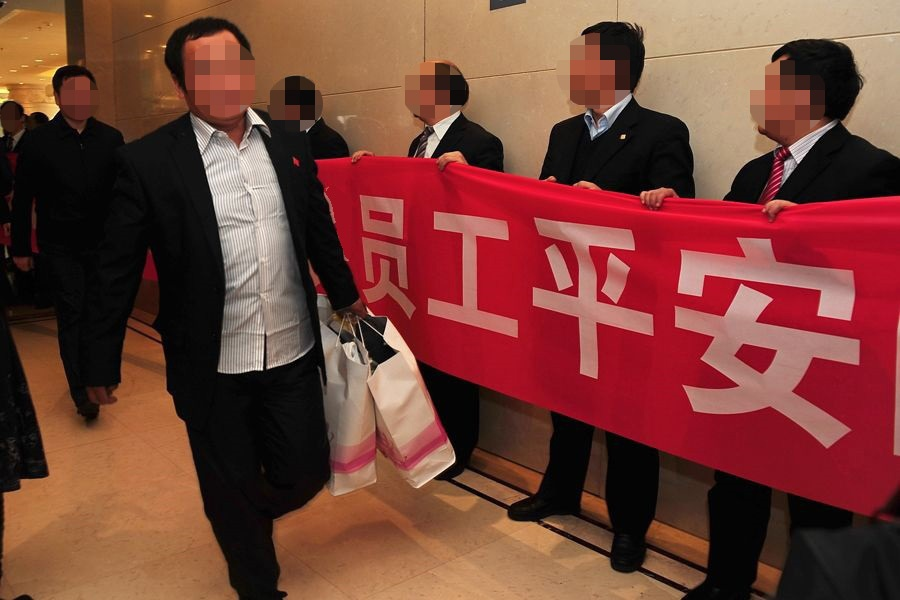text: (355, 189, 370, 457), (371, 189, 386, 457), (387, 189, 402, 457), (403, 189, 418, 457), (419, 189, 434, 457), (435, 189, 450, 457), (451, 189, 466, 457), (467, 189, 482, 457), (483, 189, 498, 457), (499, 189, 514, 457), (515, 189, 530, 457), (531, 189, 546, 457), (547, 189, 562, 457), (563, 189, 578, 457), (579, 189, 594, 457), (595, 189, 610, 457), (611, 189, 626, 457), (627, 189, 642, 457), (643, 189, 658, 457), (659, 189, 674, 457), (675, 189, 690, 457), (691, 189, 706, 457), (707, 189, 722, 457), (723, 189, 738, 457), (739, 189, 754, 457), (755, 189, 770, 457), (771, 189, 786, 457), (787, 189, 802, 457), (803, 189, 818, 457), (819, 189, 834, 457), (835, 189, 850, 457), (851, 189, 866, 457), (867, 189, 882, 457)
